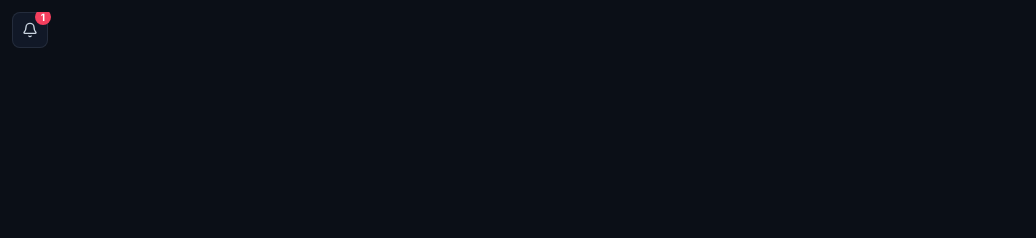
Test case: Step 7.6 — AlertsPage & NotificationBell UI › renders NotificationBell unread badge, dropdown, mark read, and mark all read
Later steps or results of the test are not shown.
Expected: the text with test id "notification-unread-badge" reads "1", [41,11,45,23]
Click the button named "Notifications (1 unread)" at (30, 30), box [12,12,48,48]
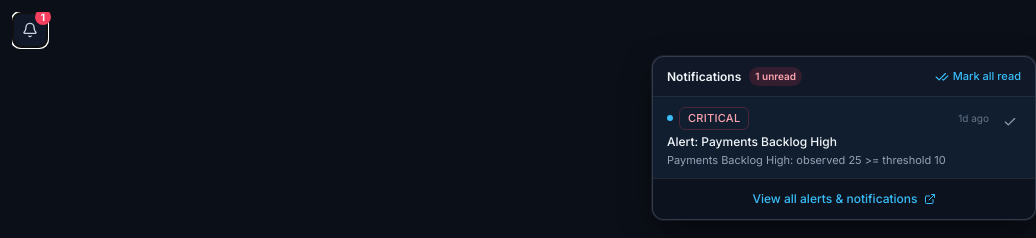
Now the text "Alert: Payments Backlog High" is shown, box [667,134,837,148]
